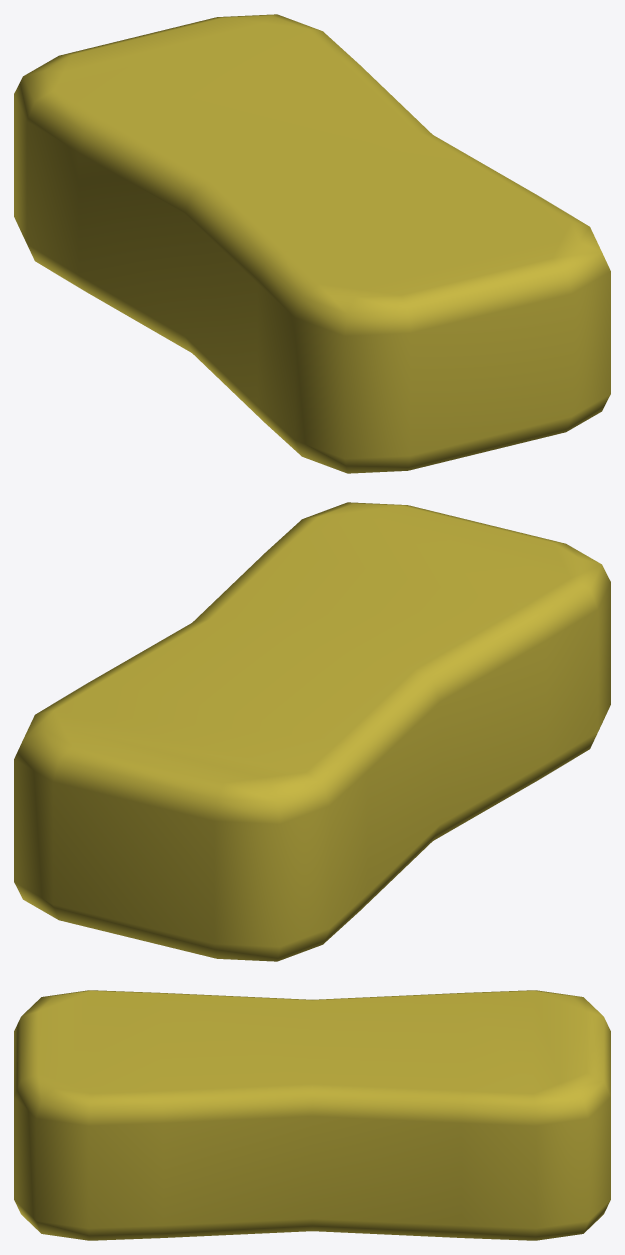
Rendered from Sponge.fbx.
3 views of the same model, one above another, from view 1: azimuth 30°, elevation 25°; view 2: azimuth 150°, elevation 25°; view 3: azimuth 270°, elevation 25° (orthographic). The views are drawn at different scales.
Visible parts, largest first — view 1: Sponge; view 2: Sponge; view 3: Sponge.
Part boxes in pixels (x1,y1,x2,y2): Sponge: (14, 14, 610, 473); Sponge: (14, 502, 610, 961); Sponge: (14, 990, 610, 1240).
Size of the model in its own units: 0.9565 by 0.5283 by 1.96.
